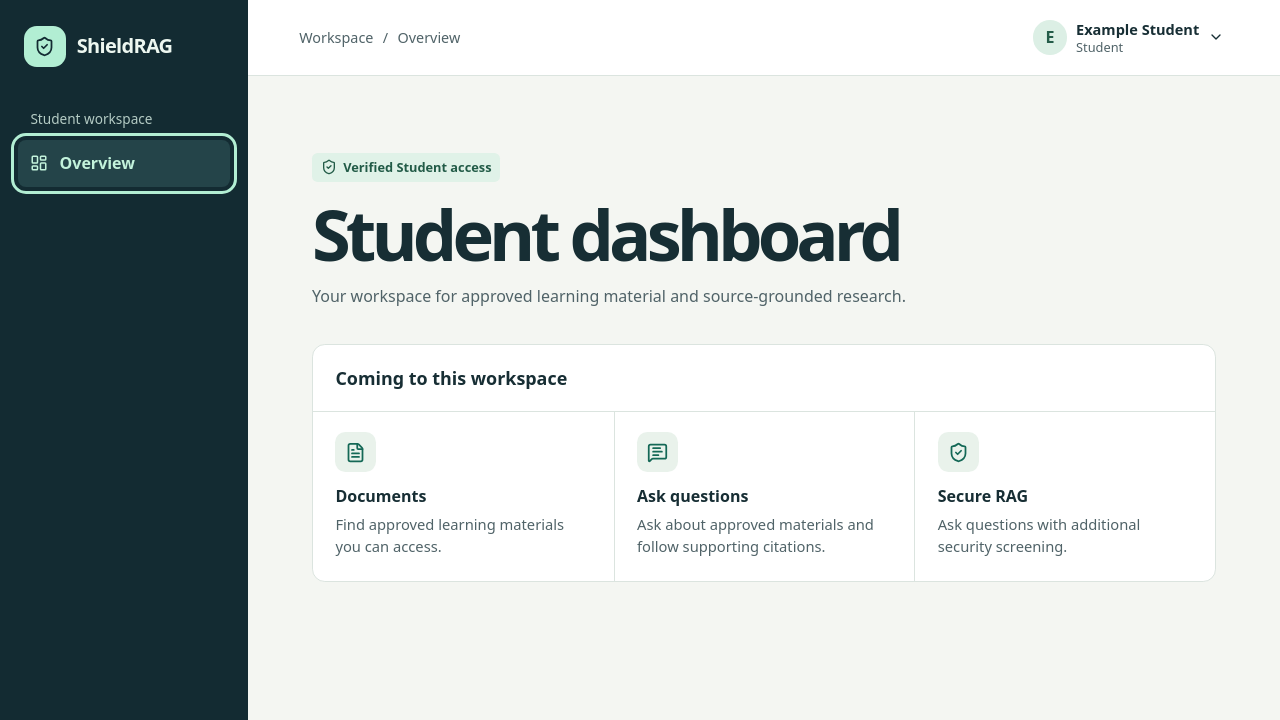
it: login and routing › toggles the responsive navigation and clears trusted state on logout
Earlier steps of the test are not shown.
Click the heading named "Account menu" at point(1128, 38), box 1028,16 -> 1229,60
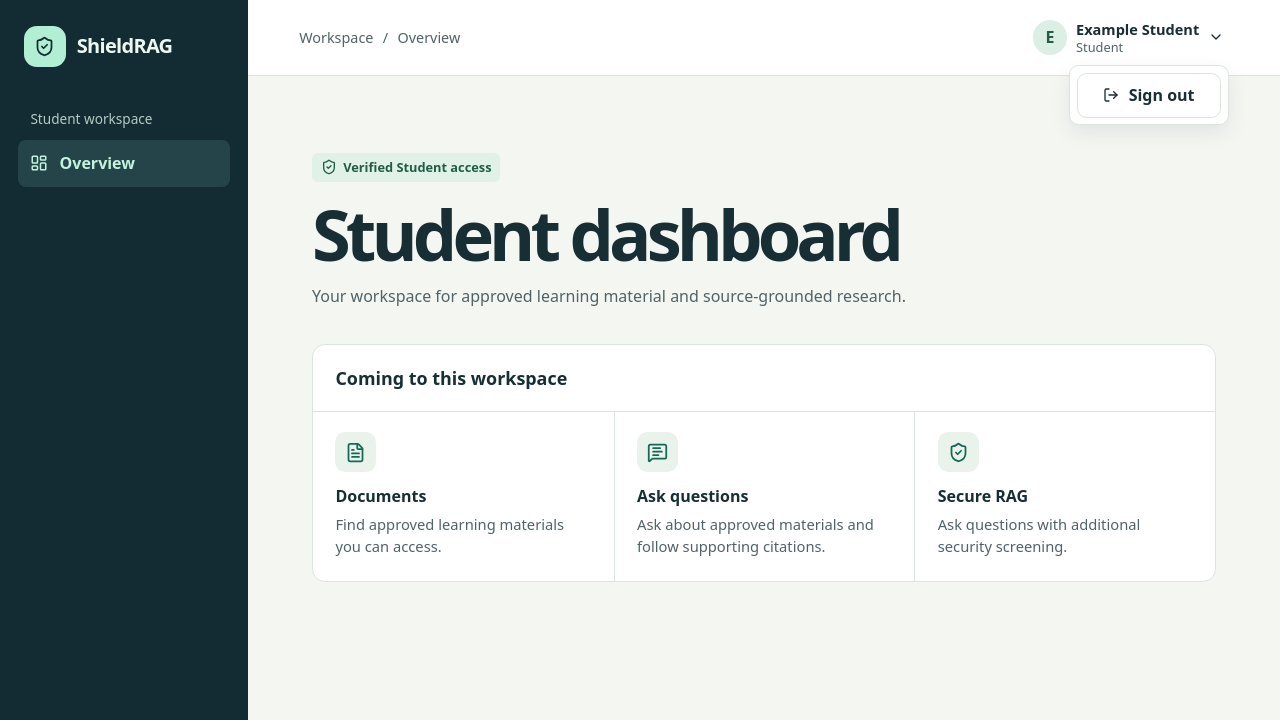
Click the button "Sign out" at point(1149, 95), box 1076,73 -> 1221,118
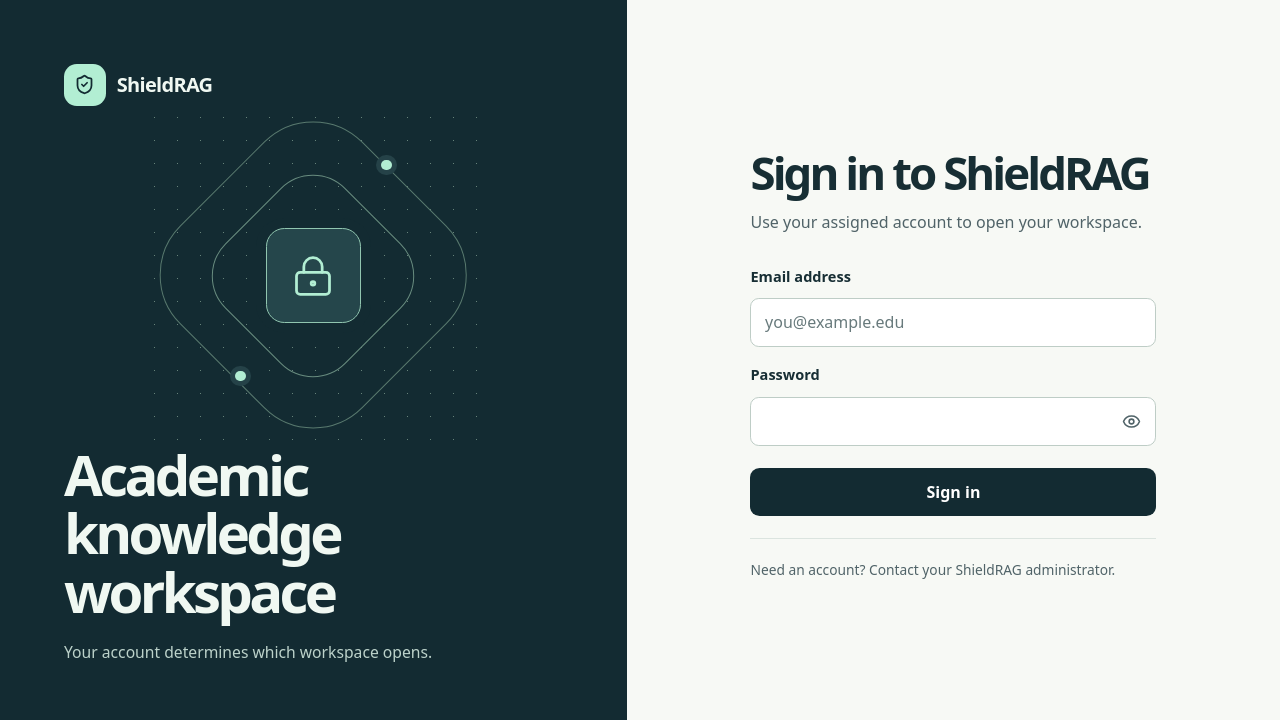
Expected: the heading "Sign in to ShieldRAG" is shown, 750,147 -> 1156,198
Expected: the heading "Example Student" is gone
